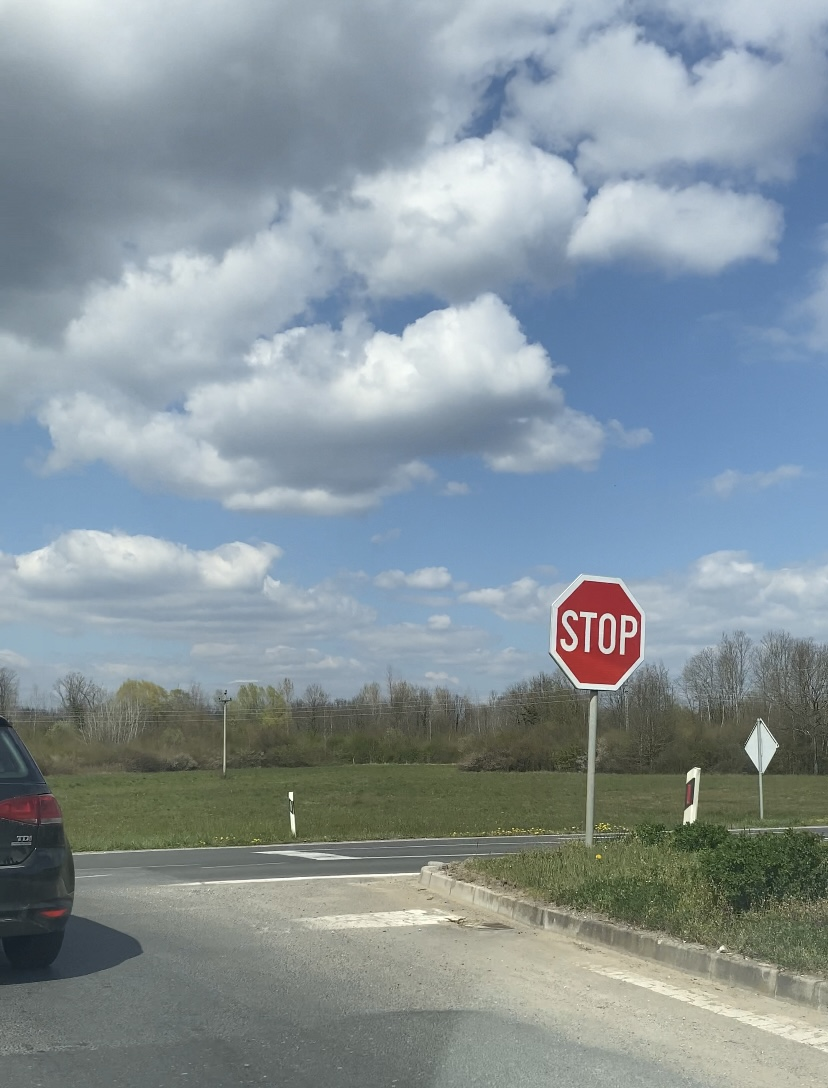Obavezno zaustavljanje: (549, 573, 646, 692)
